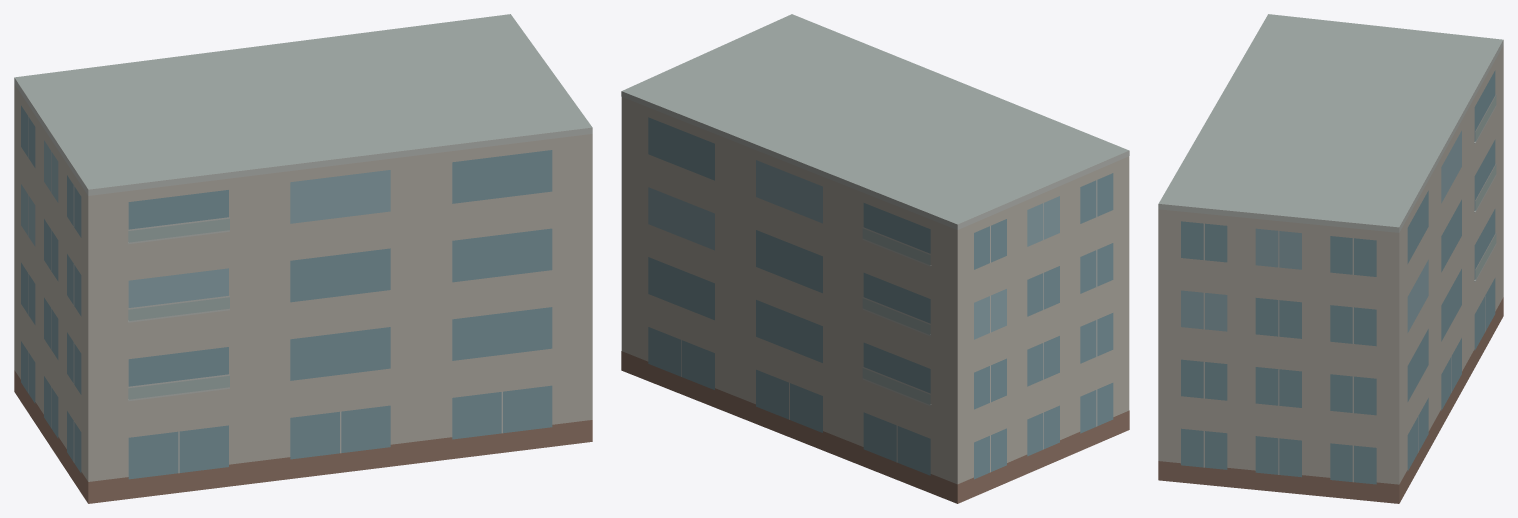
File: survey-upis-32604852.glb
3 renders of one model, left to right at view 1: azimuth 30°, elevation 25°; view 2: azimuth 150°, elevation 25°; view 3: azimuth 270°, elevation 25°, orthographic. The views are drawn at different scales.
Parts seen in each view (by area): view 1: survey-upis-32604852.tmp; view 2: survey-upis-32604852.tmp; view 3: survey-upis-32604852.tmp.
Part boxes in pixels (x1,y1,x2,y2): survey-upis-32604852.tmp: (14,14,592,503); survey-upis-32604852.tmp: (621,14,1129,503); survey-upis-32604852.tmp: (1158,14,1503,503).
Size of the model in its own units: 20.2 by 12.2 by 13.81.
